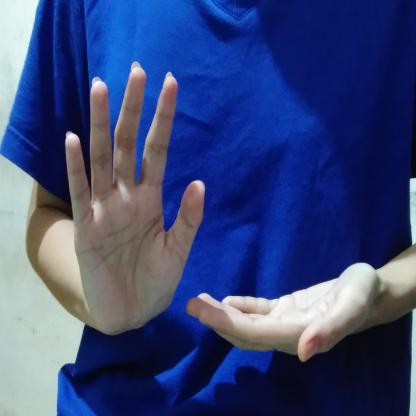hello: (51, 57, 394, 373)
